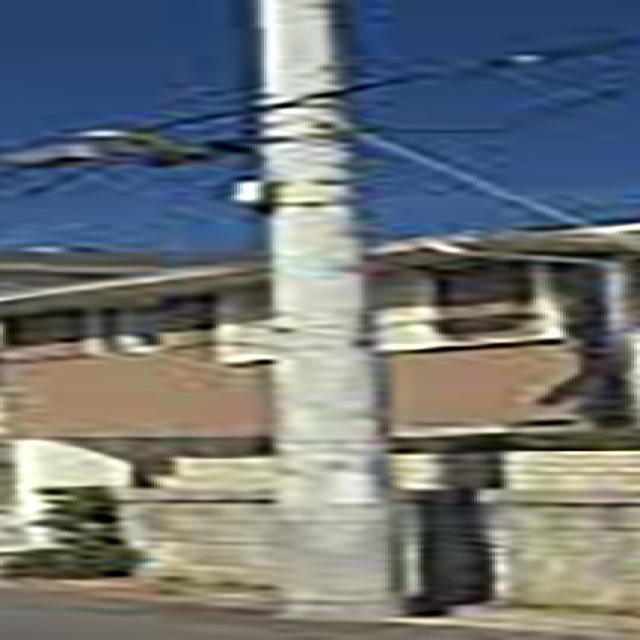pole: (118, 0, 543, 640)
